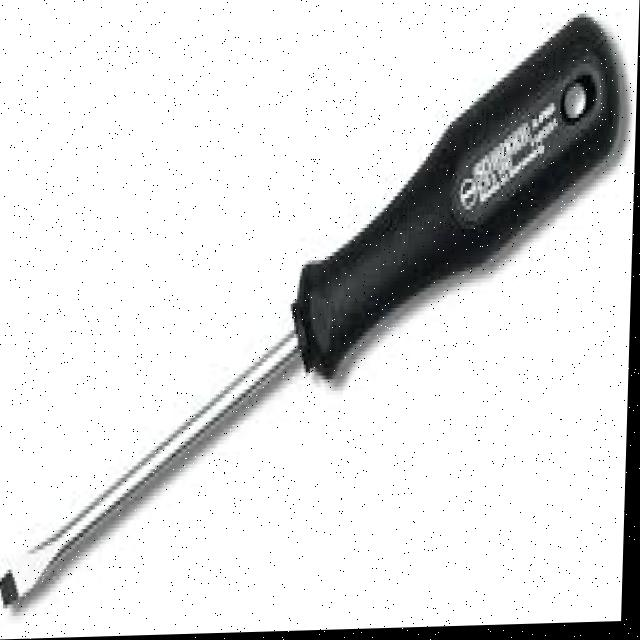Screwdriver: (3, 21, 623, 607)
